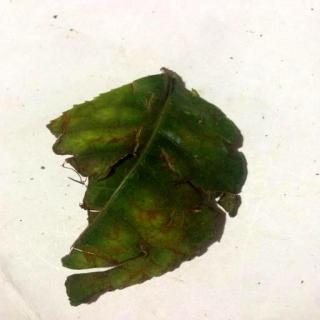Red Leaf Spot: (47, 70, 248, 307)
